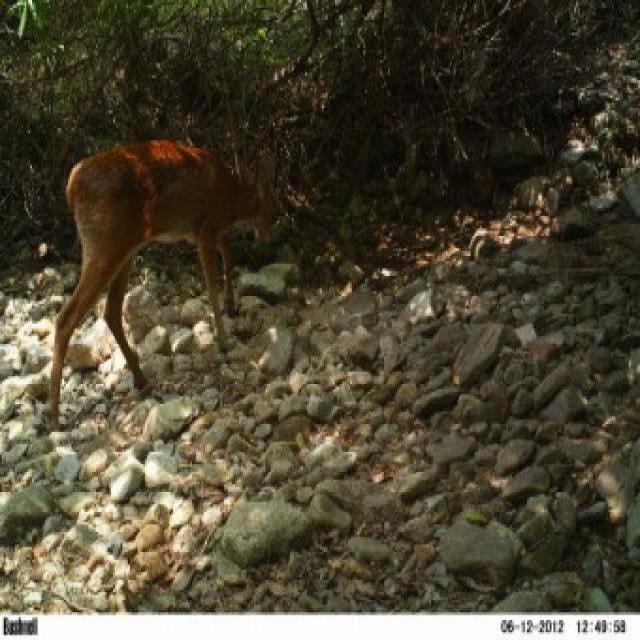deer: (21, 122, 302, 437)
